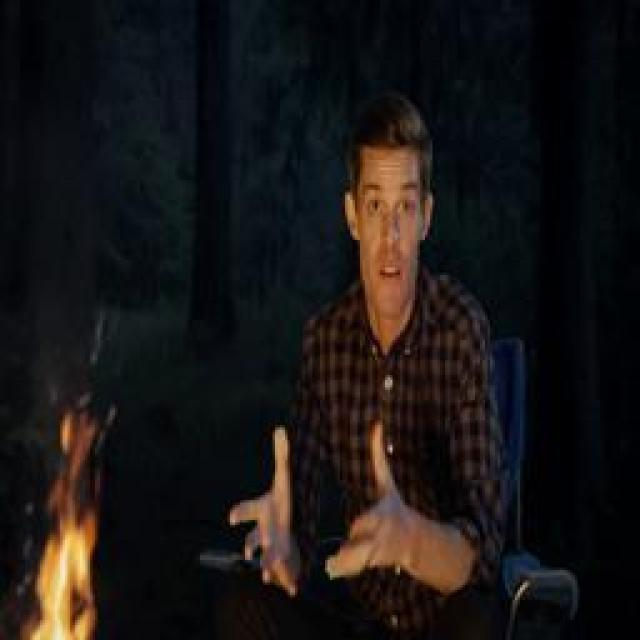Fire: (29, 400, 119, 640)
